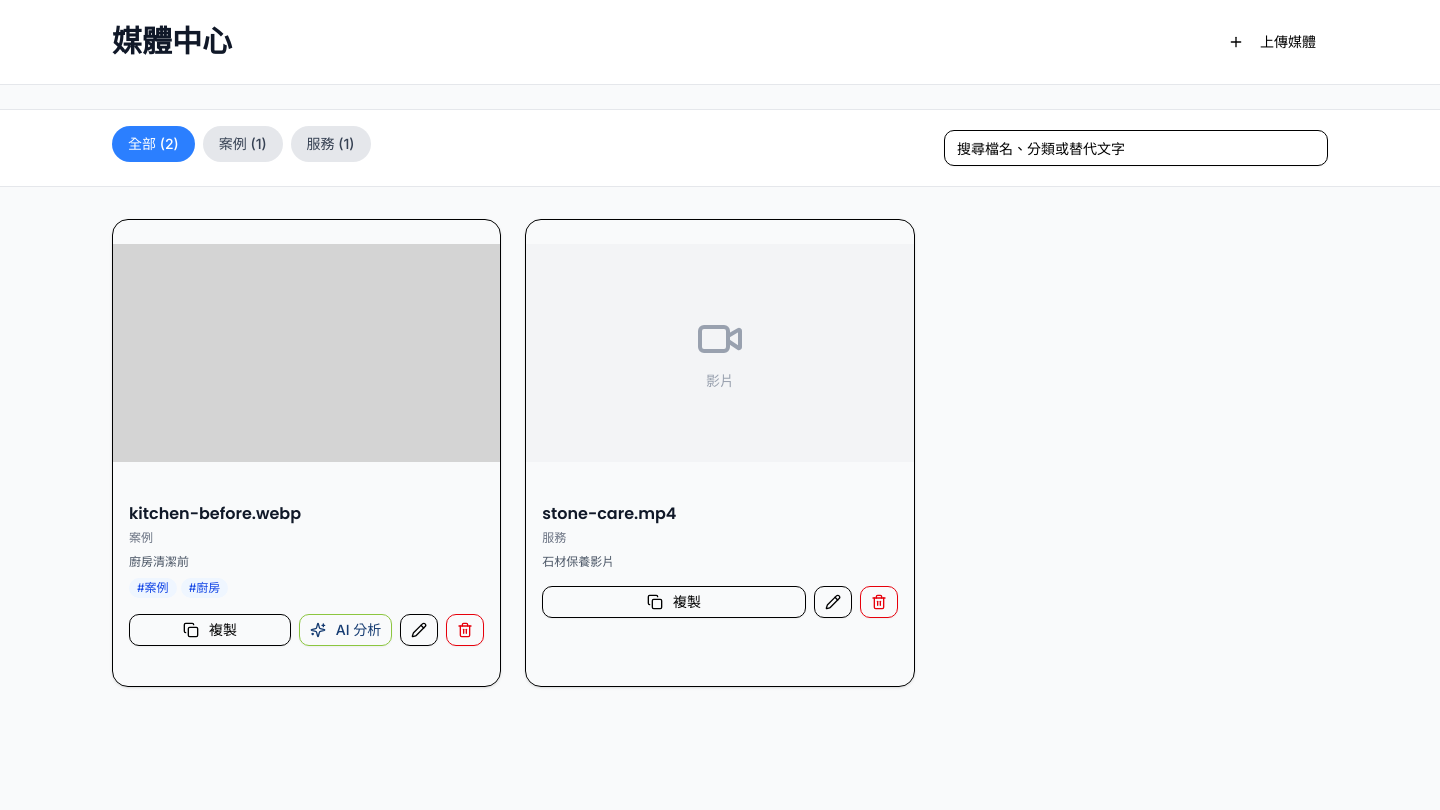
Test: CMSMedia 管理介面 › AI 分析失敗時顯示錯誤訊息，且不會建立可套用的草稿
The image size is (1440, 810).
Click the button "AI 分析" at (346,630), box [299,614,392,646]
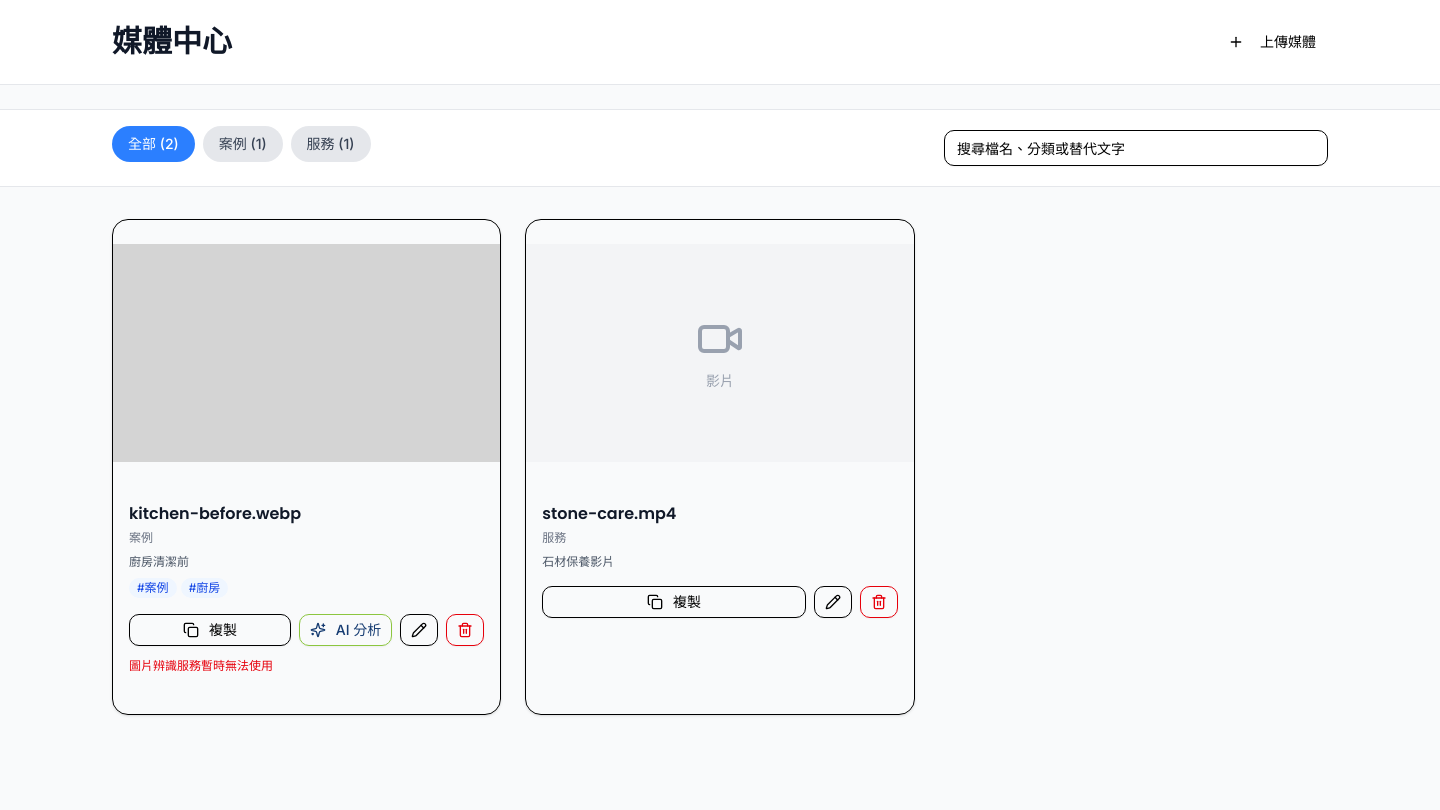
Expected: the text "圖片辨識服務暫時無法使用" is shown, [129,658,273,673]
